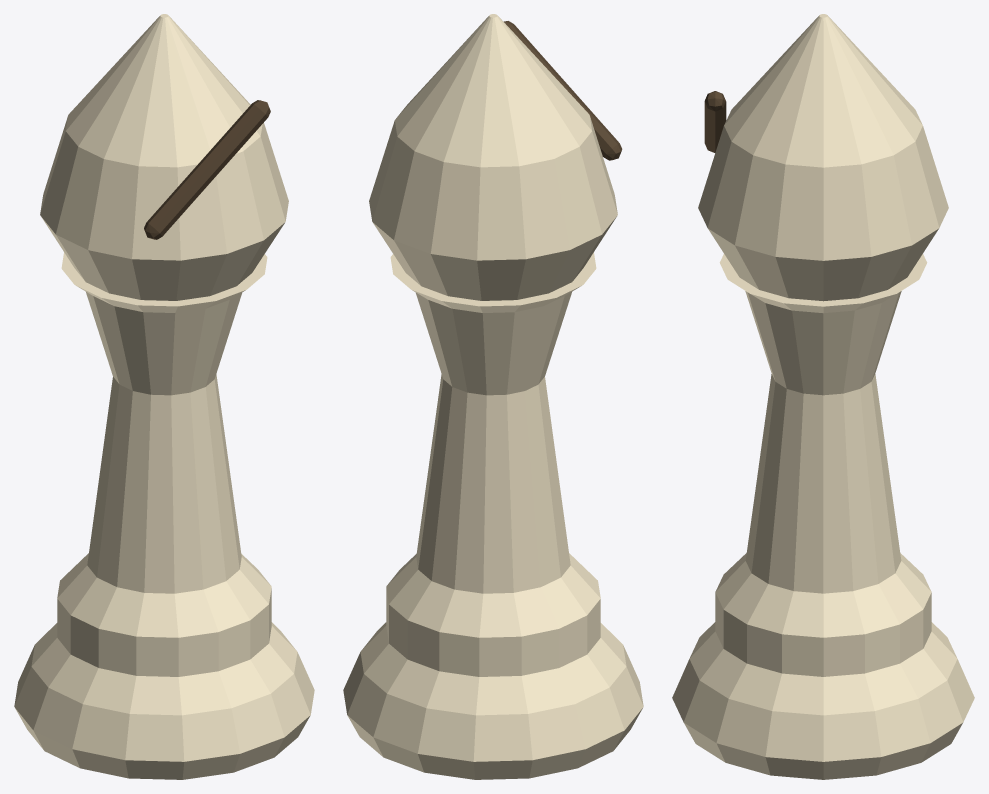
The model's file is SM_IntellectualGrandpaHouse_Chess_White_Bishop.fbx.
3 renders of one model, left to right at view 1: azimuth 30°, elevation 25°; view 2: azimuth 150°, elevation 25°; view 3: azimuth 270°, elevation 25°, orthographic.
Parts seen in each view (by area): view 1: SM_IntellectualGrandpaHouse_Chess_White_Bishop; view 2: SM_IntellectualGrandpaHouse_Chess_White_Bishop; view 3: SM_IntellectualGrandpaHouse_Chess_White_Bishop.
Boxes of the visible parts, bbox=[...] form: SM_IntellectualGrandpaHouse_Chess_White_Bishop: bbox=[14, 14, 314, 779]; SM_IntellectualGrandpaHouse_Chess_White_Bishop: bbox=[343, 14, 643, 779]; SM_IntellectualGrandpaHouse_Chess_White_Bishop: bbox=[672, 14, 974, 779].
Size of the model in its own units: 7 by 7 by 18.
